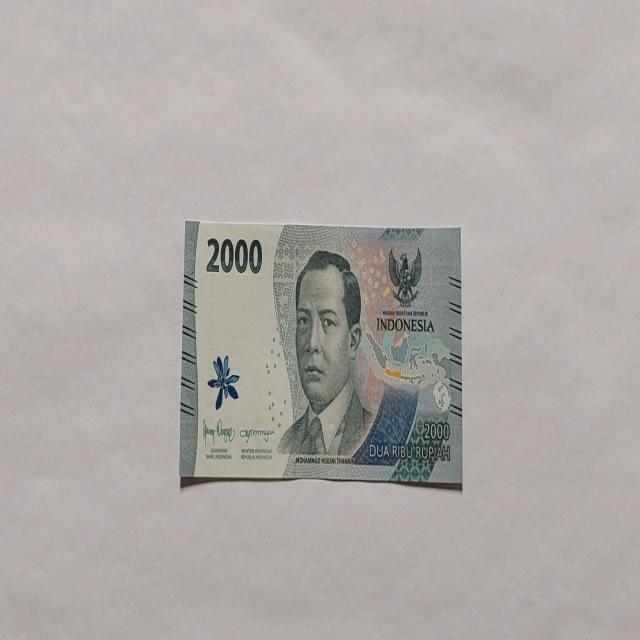dua ribu rupiah: (180, 218, 462, 488), (276, 248, 375, 462)
